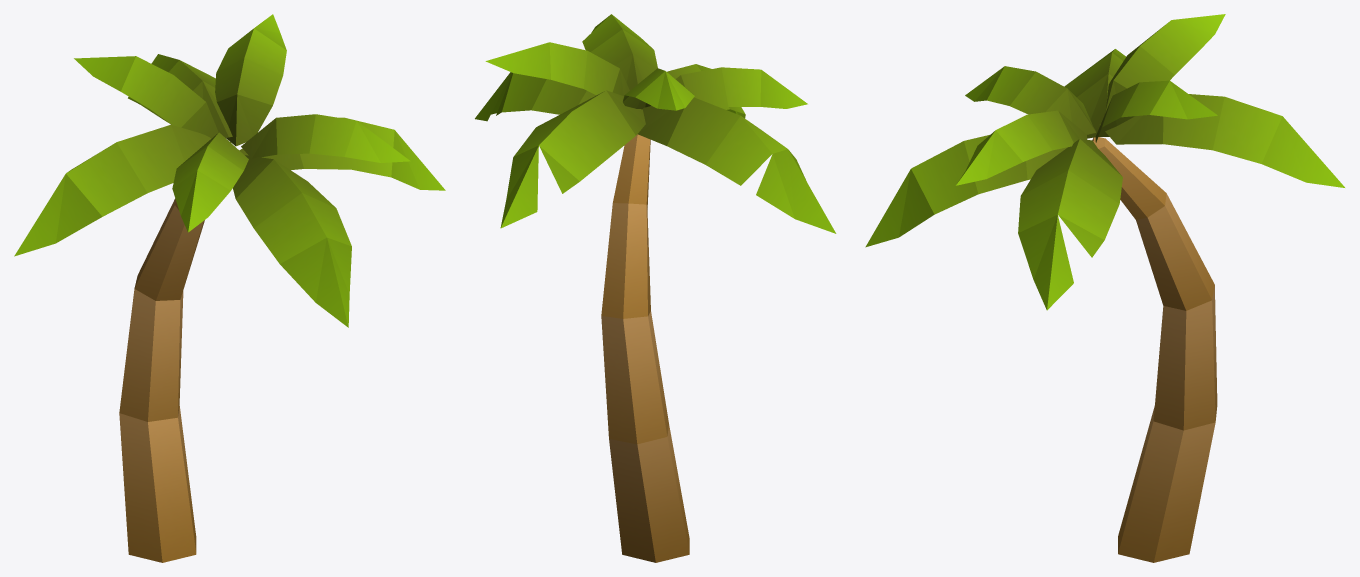
The model's file is Palm_Tree_A.fbx.
3 renders of one model, left to right at view 1: azimuth 30°, elevation 25°; view 2: azimuth 150°, elevation 25°; view 3: azimuth 270°, elevation 25°, orthographic. The views are drawn at different scales.
Parts seen in each view (by area): view 1: Palm_Tree_A; view 2: Palm_Tree_A; view 3: Palm_Tree_A.
Boxes of the visible parts, left/top/right/bottom form: Palm_Tree_A: left=14, top=14, right=445, bottom=562; Palm_Tree_A: left=475, top=14, right=836, bottom=562; Palm_Tree_A: left=865, top=14, right=1344, bottom=562.
Size of the model in its own units: 295 by 346 by 292.
